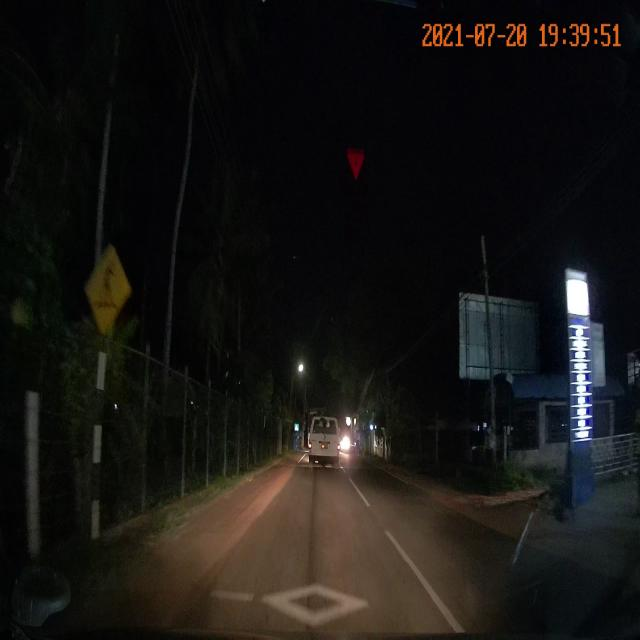diamond: (184, 562, 467, 639)
